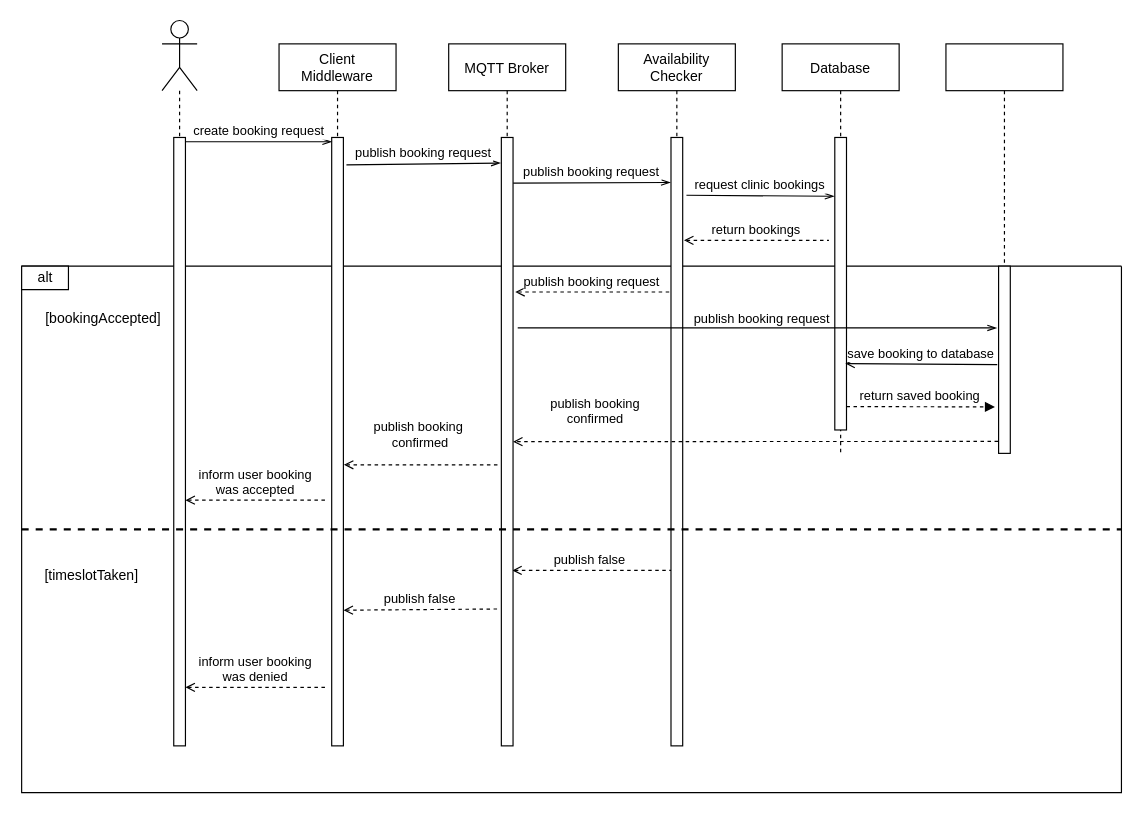
Some shapes in this 1143 by 813 pixel diagram are drawn without their labels. The centre of each missing label's shape, as x and y in pixels:
Booking Manager: point (1004, 248)
user: point (179, 55)
